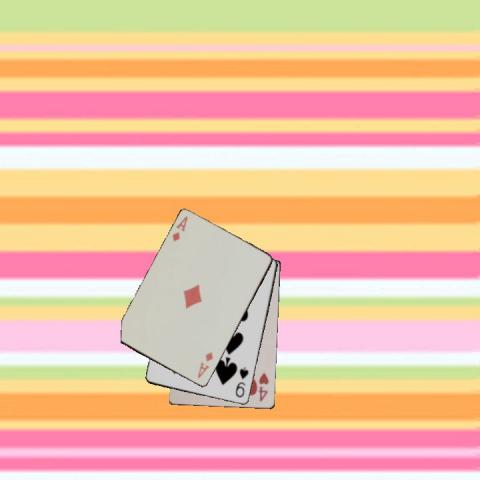4h: (257, 370, 270, 403)
9s: (233, 364, 250, 399)
Ad: (194, 349, 214, 380), (170, 214, 190, 244)
